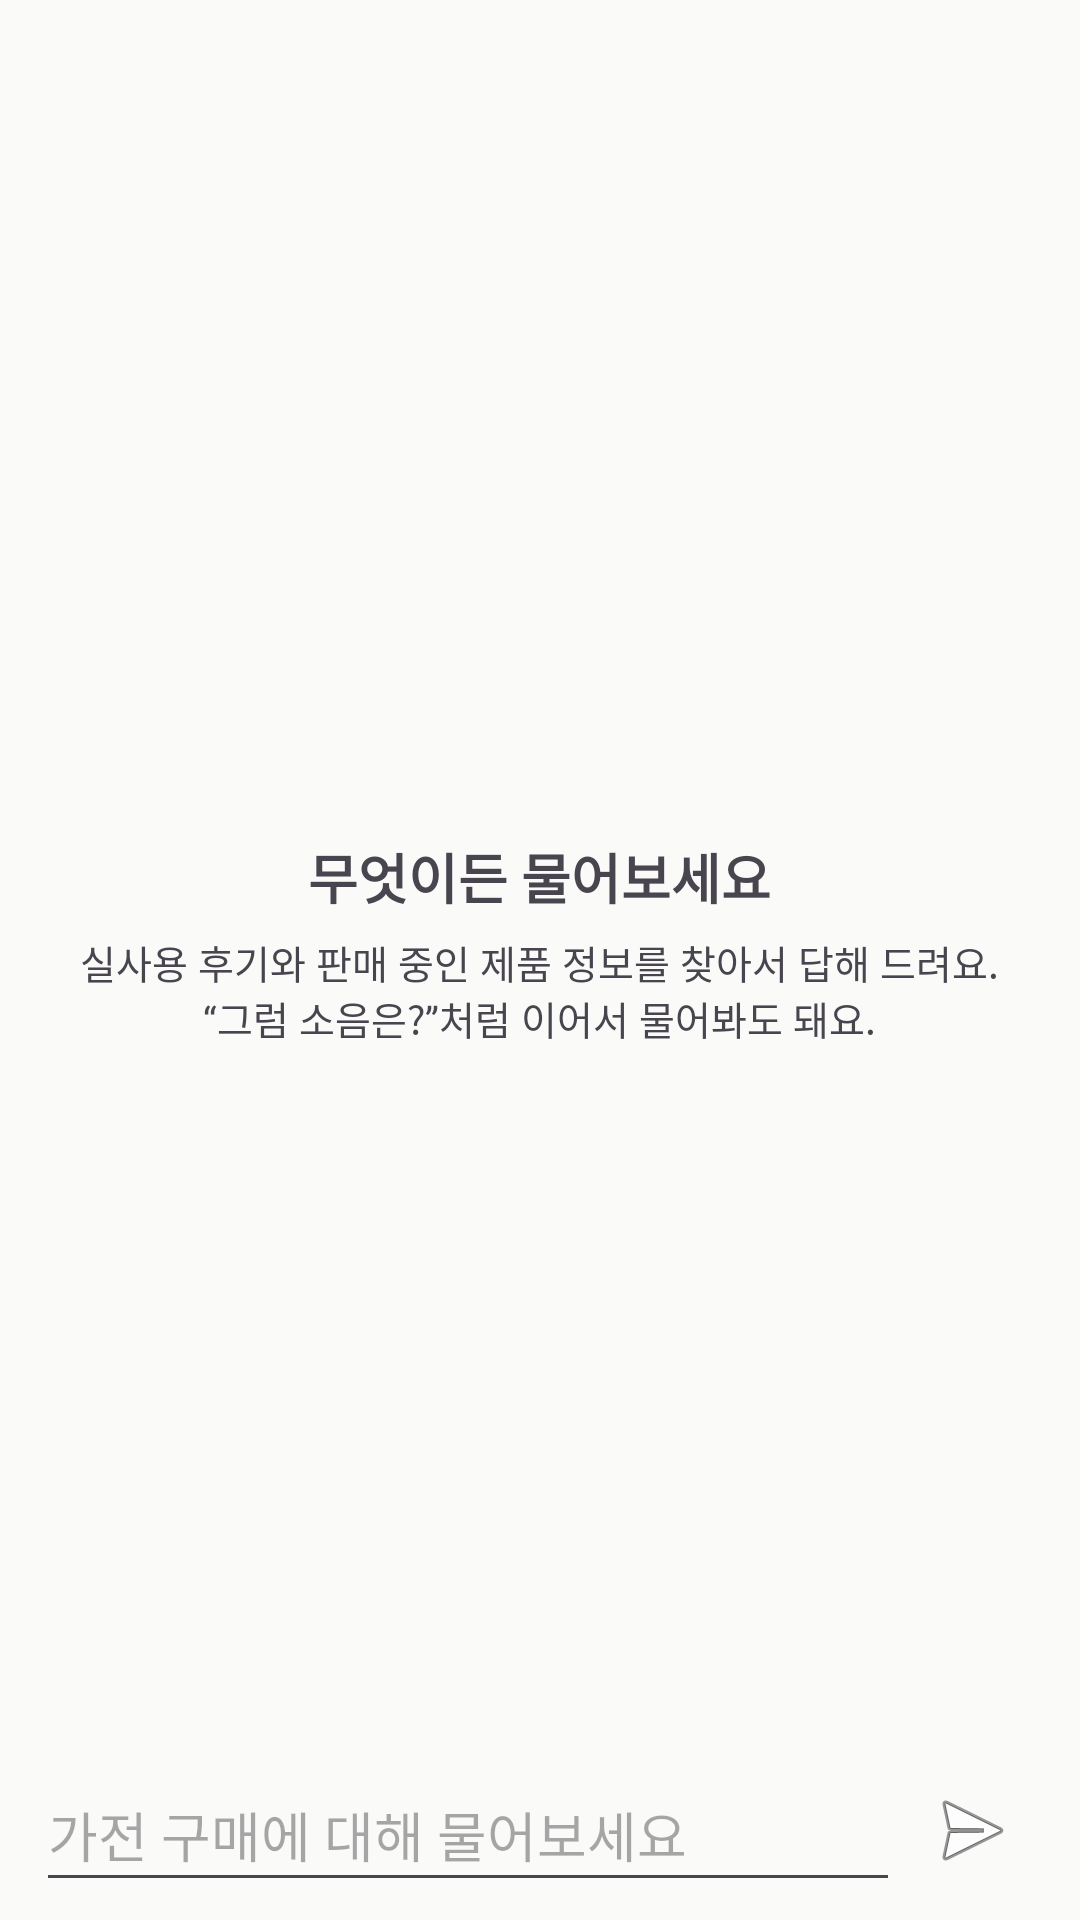

Named icons in this screenshot (1080px x 1920px) and their bounding boxes, (x1, y1, x2, y2):
보내기: (942, 1800, 1004, 1861)
